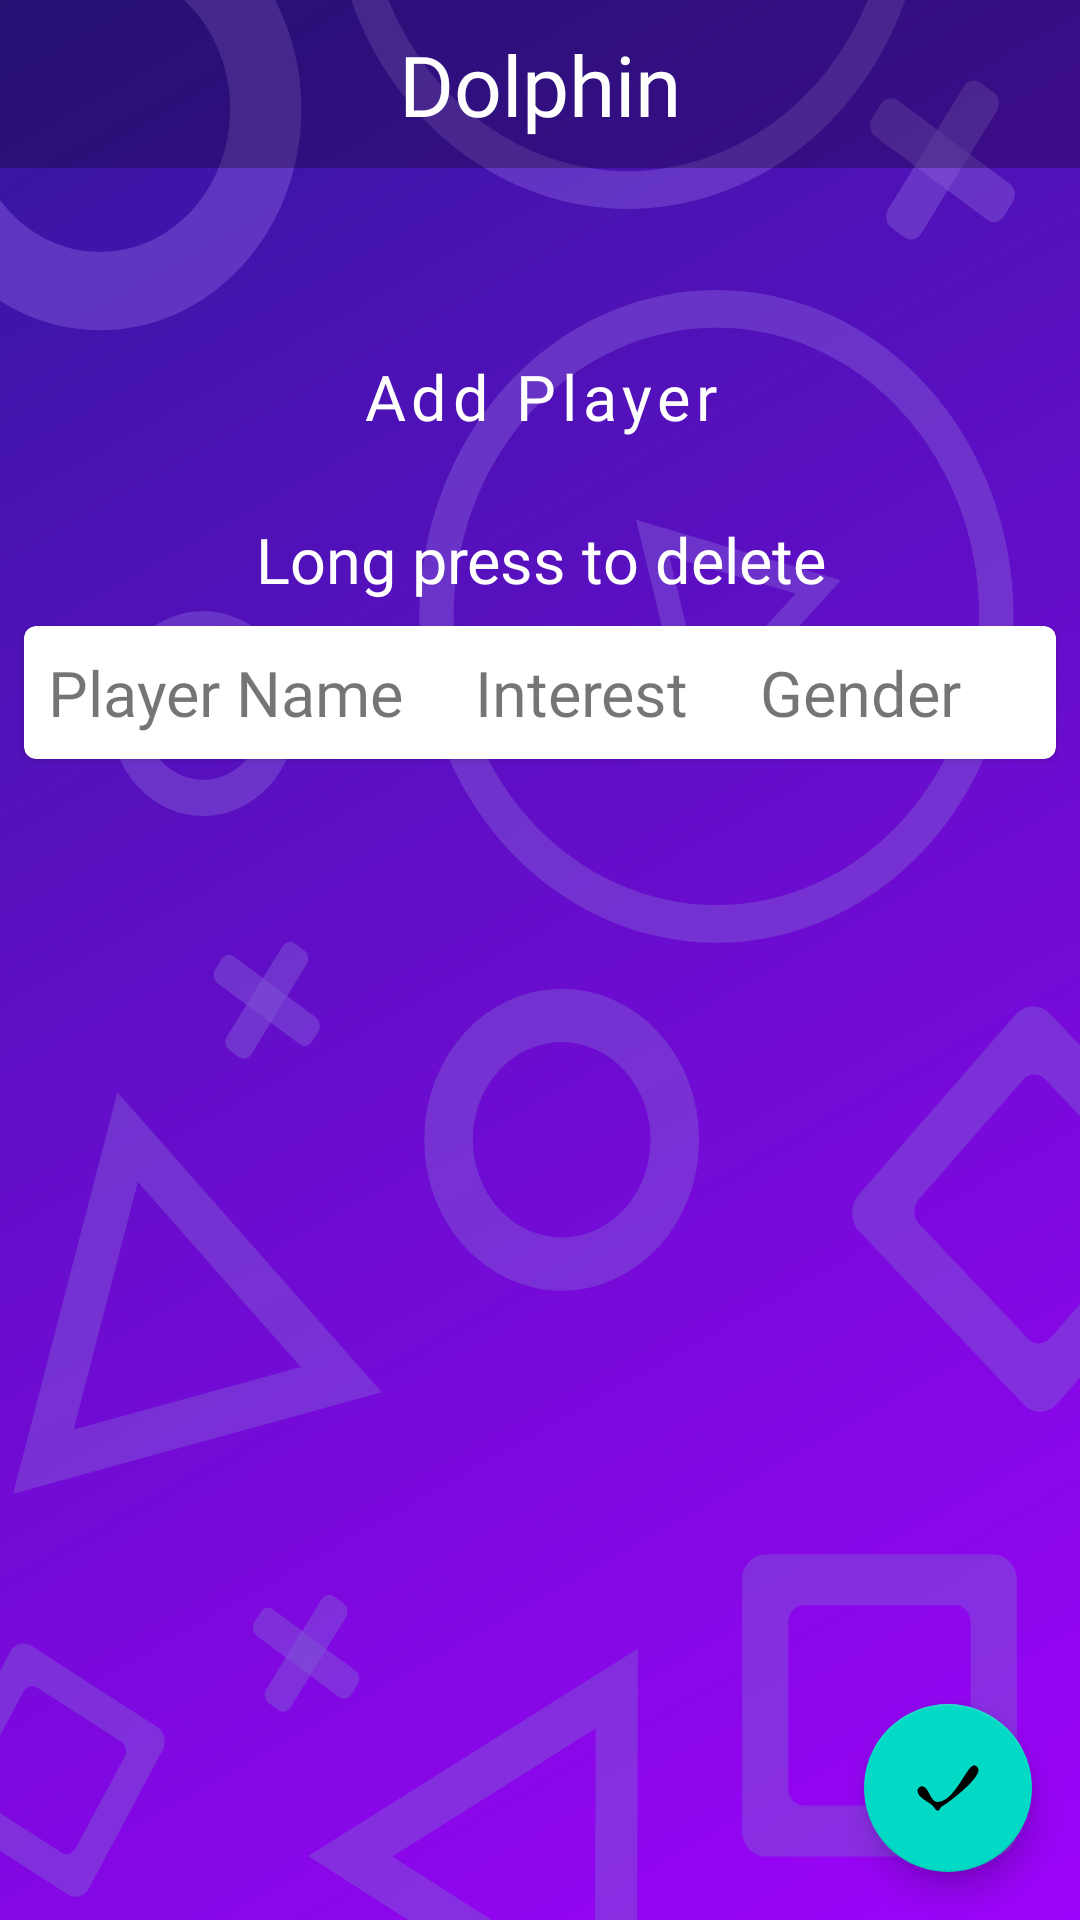

Where icons sit on this 1080px x 1920px app screen, as (x1, y1, x2, y2):
check: (864, 1704, 1032, 1872)
